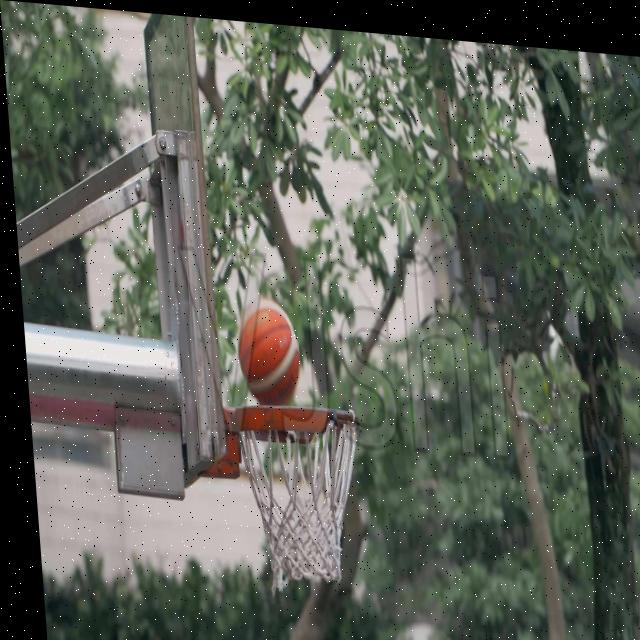basketball: (237, 302, 304, 408)
hoop: (236, 402, 372, 586)
